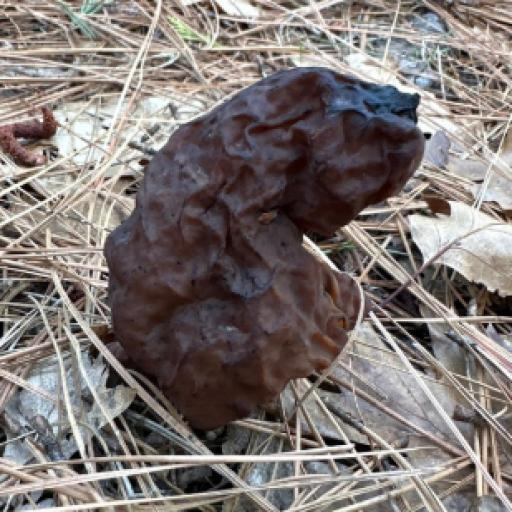mushroom: (100, 61, 431, 426)
